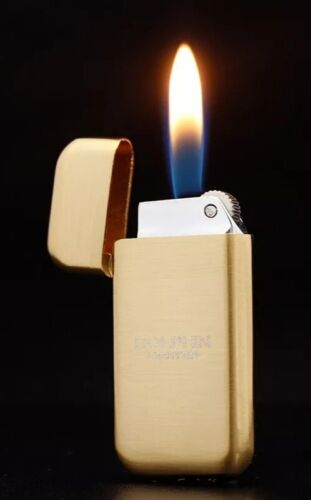Fire: (158, 33, 215, 201)
